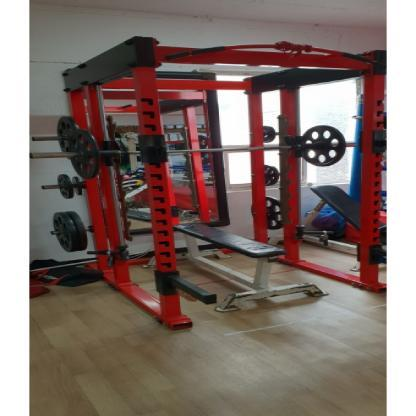smith machine: (61, 35, 386, 332)
